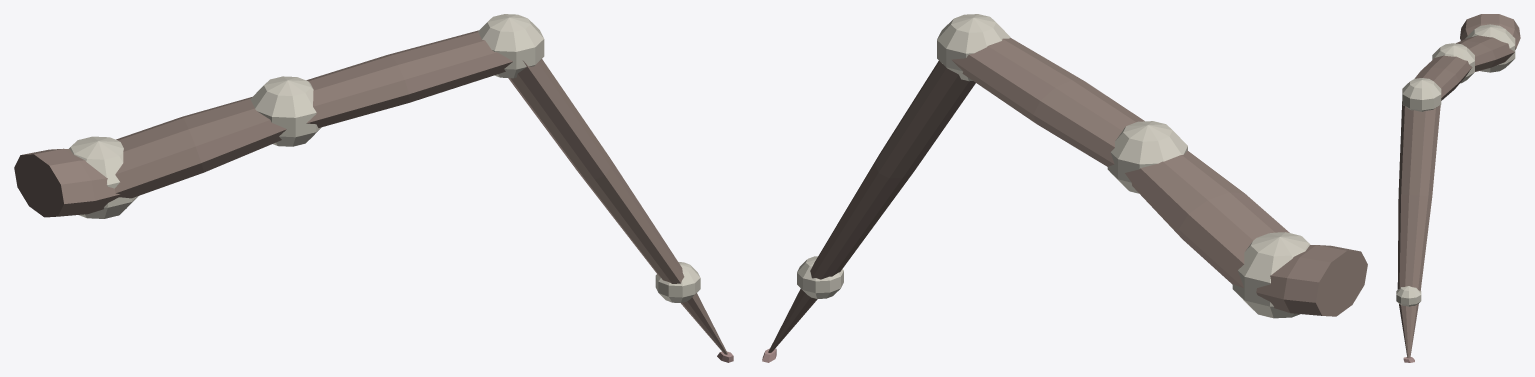
Rendered from crab_leg_r3_original_01.glb.
3 views of the same model, side by side, from view 1: azimuth 30°, elevation 25°; view 2: azimuth 150°, elevation 25°; view 3: azimuth 270°, elevation 25° (orthographic). The views are drawn at different scales.
Parts seen in each view (by area): view 1: R3Segment2, R3Segment1, R3Segment3, R3Segment0, R3Articulation2, R3Articulation3, R3Articulation1, R3Articulation4, R3Segment4; view 2: R3Segment2, R3Segment1, R3Segment3, R3Segment0, R3Articulation1, R3Articulation2, R3Articulation3, R3Articulation4, R3Segment4; view 3: R3Segment3, R3Segment2, R3Segment1, R3Articulation3, R3Segment0, R3Articulation1, R3Segment4, R3Articulation2, R3Articulation4.
Boxes of the visible parts, bbox=[...] form: R3Segment2: bbox=[306, 30, 512, 127]; R3Segment1: bbox=[115, 97, 286, 198]; R3Segment3: bbox=[508, 59, 684, 283]; R3Segment0: bbox=[14, 148, 120, 217]; R3Articulation2: bbox=[250, 76, 321, 146]; R3Articulation3: bbox=[478, 14, 544, 78]; R3Articulation1: bbox=[69, 136, 138, 218]; R3Articulation4: bbox=[655, 262, 700, 302]; R3Segment4: bbox=[681, 293, 727, 354]; R3Segment2: bbox=[951, 38, 1144, 166]; R3Segment1: bbox=[1125, 150, 1289, 287]; R3Segment3: bbox=[810, 61, 975, 279]; R3Segment0: bbox=[1256, 245, 1367, 316]; R3Articulation1: bbox=[1232, 232, 1310, 318]; R3Articulation2: bbox=[1107, 121, 1187, 193]; R3Articulation3: bbox=[937, 14, 1010, 81]; R3Articulation4: bbox=[797, 256, 843, 298]; R3Segment4: bbox=[768, 288, 817, 352]; R3Segment3: bbox=[1397, 101, 1440, 291]; R3Segment2: bbox=[1414, 55, 1472, 100]; R3Segment1: bbox=[1456, 35, 1514, 71]; R3Articulation3: bbox=[1402, 78, 1441, 111]; R3Segment0: bbox=[1460, 14, 1520, 49]; R3Articulation1: bbox=[1465, 24, 1515, 72]; R3Segment4: bbox=[1399, 303, 1418, 358]; R3Articulation2: bbox=[1432, 43, 1474, 83]; R3Articulation4: bbox=[1396, 286, 1421, 306].
Bounding box in the file's own units: 0.5153 × 0.3023 × 0.1527.
